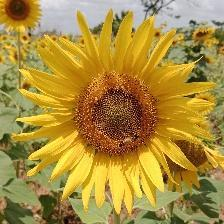sunflower: (11, 9, 216, 216), (156, 130, 222, 188), (1, 1, 45, 34), (191, 24, 213, 42), (16, 78, 33, 93), (11, 49, 27, 63), (19, 33, 33, 46), (152, 28, 165, 41), (168, 36, 179, 49), (1, 33, 12, 44), (77, 36, 89, 46), (49, 34, 61, 44), (204, 55, 213, 66), (61, 34, 70, 44), (28, 34, 29, 37)
